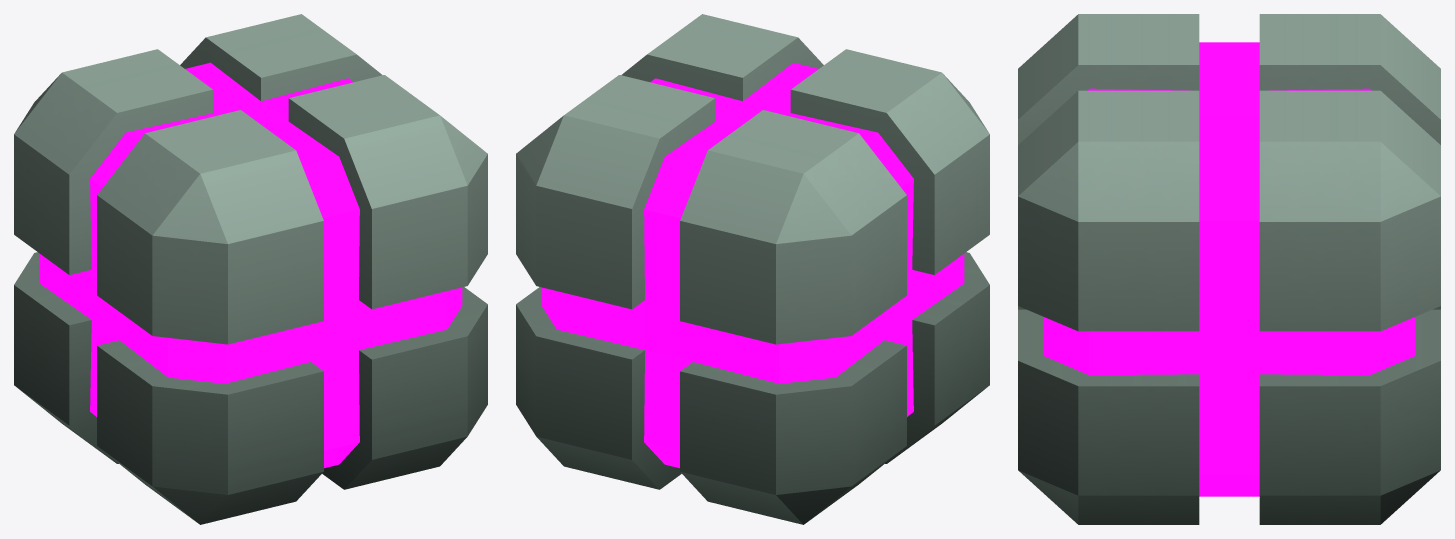
Rendered from item_014.fbx.
The picture shows the model from 3 angles, left to right: view 1: azimuth 30°, elevation 25°; view 2: azimuth 150°, elevation 25°; view 3: azimuth 270°, elevation 25°; orthographic projection. The views are drawn at different scales.
Parts seen in each view (by area): view 1: item.014; view 2: item.014; view 3: item.014.
Boxes of the visible parts, x1=… form: item.014: x1=14, y1=14, x2=487, y2=524; item.014: x1=516, y1=14, x2=989, y2=524; item.014: x1=1018, y1=14, x2=1440, y2=524.
Size of the model in its own units: 104 by 104 by 104.
